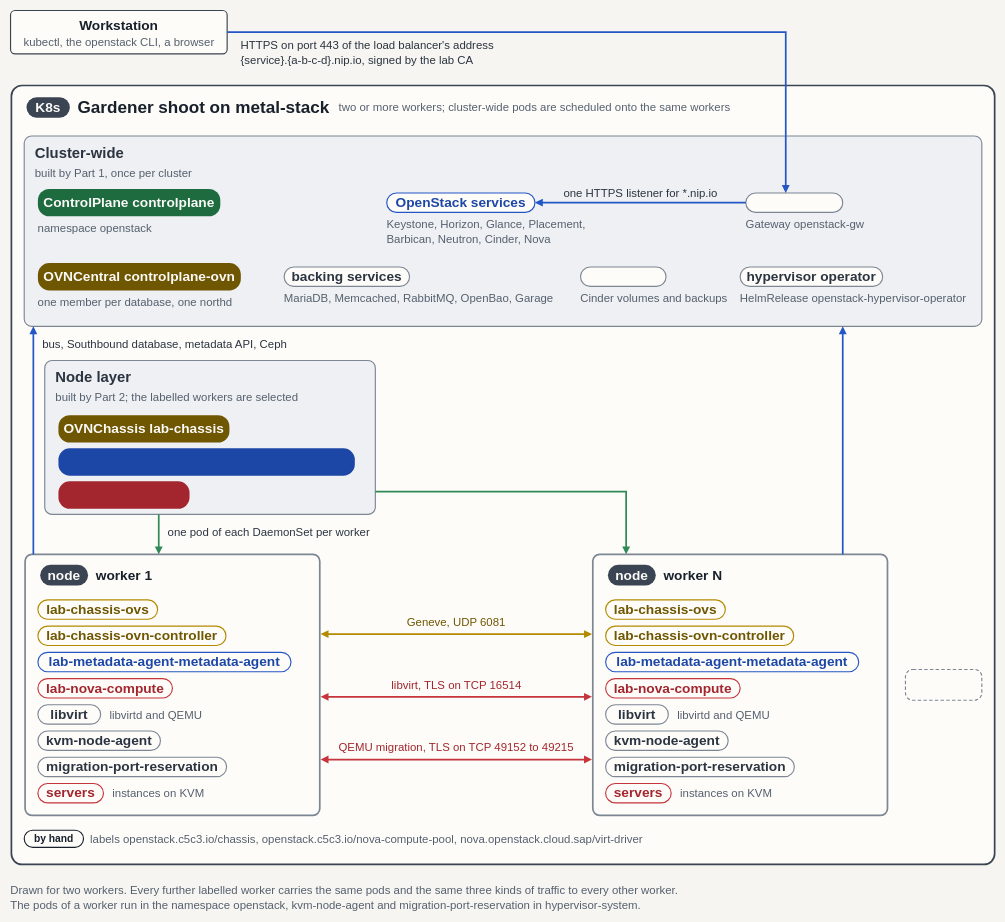
Some shapes in this 1005 by 922 pixel diagram are drawn without their labels. Each missing label, with the box of its shape:
+ more: (905, 669, 982, 701)
Envoy proxy: (745, 192, 843, 213)
lab Ceph: (580, 266, 666, 287)
NeutronMetadataAgent lab-metadata-agent: (58, 448, 355, 475)
NovaCompute lab: (58, 481, 189, 508)
